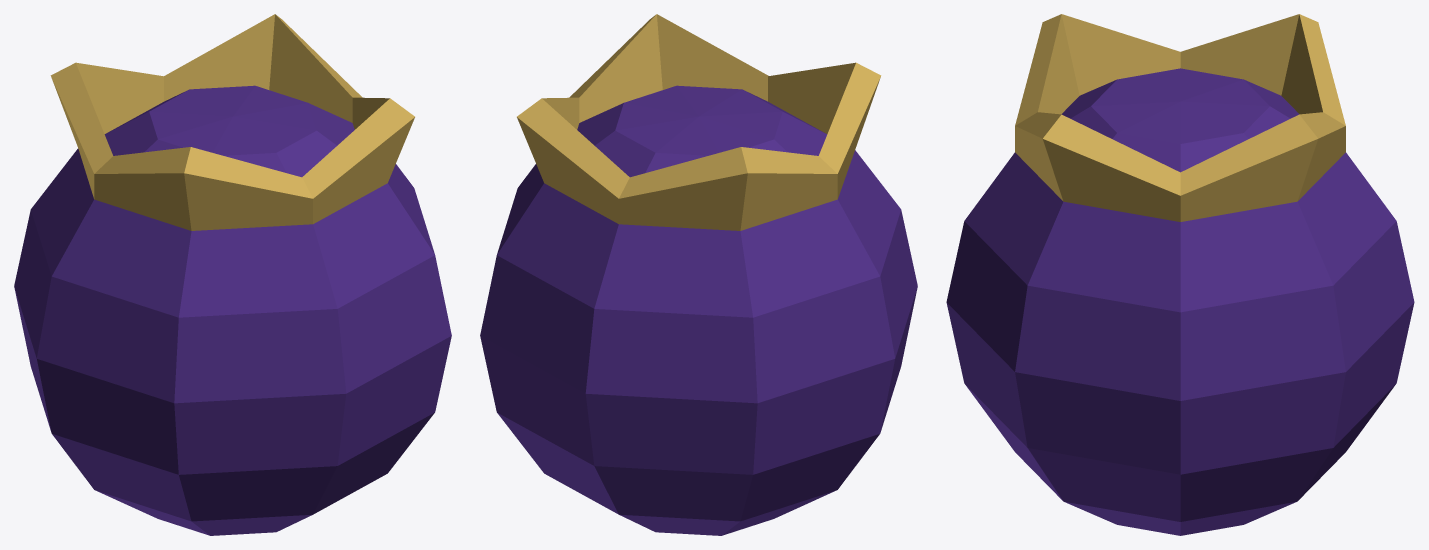
The model's file is queenberry.fbx.
3 views of the same model, side by side, from view 1: azimuth 30°, elevation 25°; view 2: azimuth 150°, elevation 25°; view 3: azimuth 270°, elevation 25° (orthographic). The views are drawn at different scales.
Parts seen in each view (by area): view 1: queensberry; view 2: queensberry; view 3: queensberry.
Boxes of the visible parts, bbox=[...] form: queensberry: bbox=[14, 14, 451, 535]; queensberry: bbox=[480, 14, 917, 535]; queensberry: bbox=[946, 14, 1414, 535].
Size of the model in its own units: 10.95 by 11.62 by 10.95.
